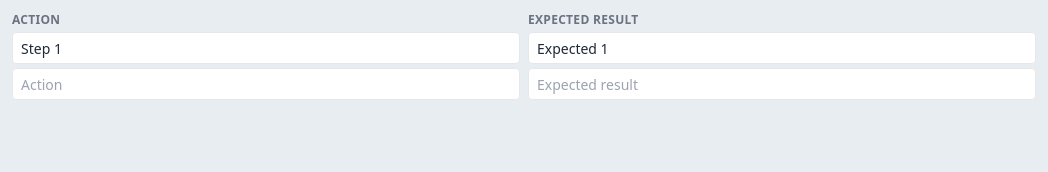
Test case: StepEditor — row management › deleting a row decreases row count by 1 (minimum 1 row always present)
Step 1. Click the text box named "step 2 action" → (266, 84), box [12,68,520,100]
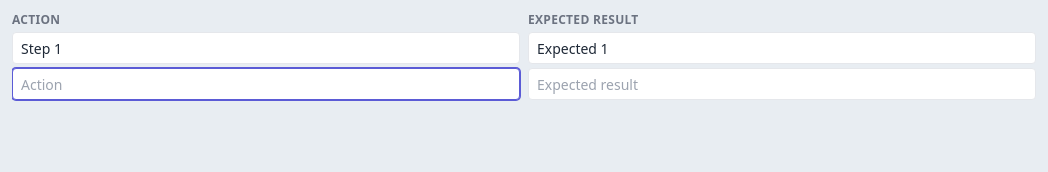
Step 2. Press Backspace
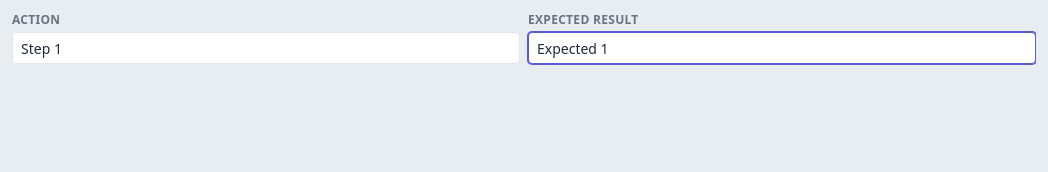
Now the number of text boxes named "Action" is 1, box [12,32,520,64]
